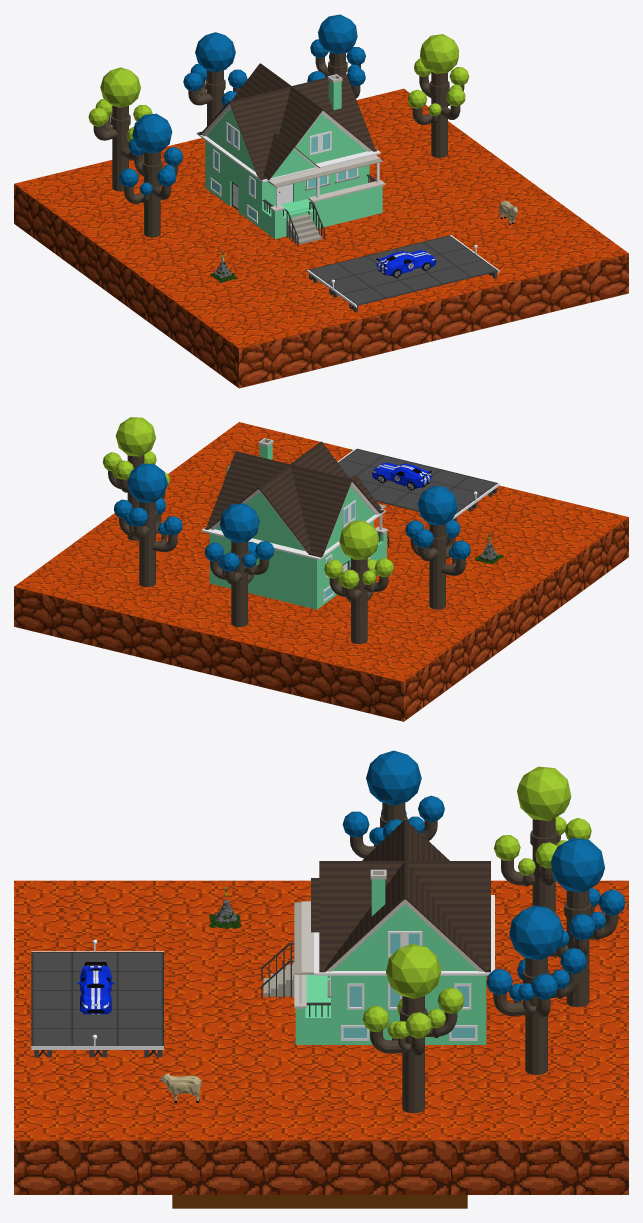
The picture shows the model from 3 angles, top to bottom: view 1: azimuth 30°, elevation 25°; view 2: azimuth 150°, elevation 25°; view 3: azimuth 270°, elevation 25°; orthographic projection. The views are drawn at different scales.
Visible parts, largest first — view 1: Cube.001, Cube.352, VEHICLES_RACING_CAR; view 2: Cube.001, Cube.352, VEHICLES_RACING_CAR; view 3: Cube.001, Cube.352, UNDERGROUND_ART_PIECE_VAN_GOGH, VEHICLES_RACING_CAR, ANIMAL_OVEJA, OBJRANDOM_SWORD_IN_THE_STONE.
Boxes of the visible parts, x1,y1,x2,y2 form: Cube.001: [14, 14, 628, 388]; Cube.352: [196, 63, 385, 245]; VEHICLES_RACING_CAR: [376, 250, 436, 277]; Cube.001: [14, 417, 628, 721]; Cube.352: [201, 438, 389, 609]; VEHICLES_RACING_CAR: [372, 462, 431, 490]; Cube.001: [14, 750, 628, 1194]; Cube.352: [261, 820, 494, 1044]; UNDERGROUND_ART_PIECE_VAN_GOGH: [172, 1195, 467, 1208]; VEHICLES_RACING_CAR: [77, 962, 114, 1014]; ANIMAL_OVEJA: [160, 1073, 201, 1102]; OBJRANDOM_SWORD_IN_THE_STONE: [208, 886, 241, 928].
Size of the model in its own units: 4000 by 1789 by 4000.
41 materials, 5 textured.
